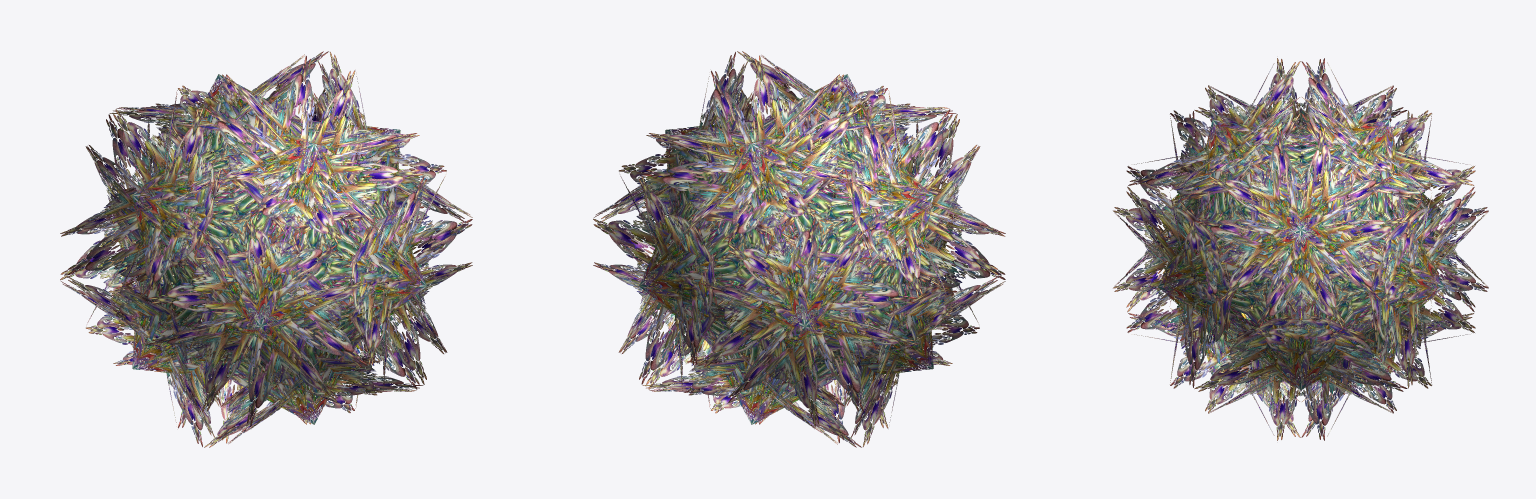
The model's file is GreatIcosacronicHexecontahedron.gltf.
3 renders of one model, left to right at view 1: azimuth 30°, elevation 25°; view 2: azimuth 150°, elevation 25°; view 3: azimuth 270°, elevation 25°, orthographic. The views are drawn at different scales.
Parts seen in each view (by area): view 1: GreatIcosacronicHexecontahedron9; view 2: GreatIcosacronicHexecontahedron9; view 3: GreatIcosacronicHexecontahedron9.
Part boxes in pixels (x1,y1,x2,y2): GreatIcosacronicHexecontahedron9: (60, 51, 472, 447); GreatIcosacronicHexecontahedron9: (593, 51, 1005, 447); GreatIcosacronicHexecontahedron9: (1113, 58, 1488, 440).
Bounding box in the file's own units: 3.62 × 3.62 × 3.62.
1 material, 1 textured.
